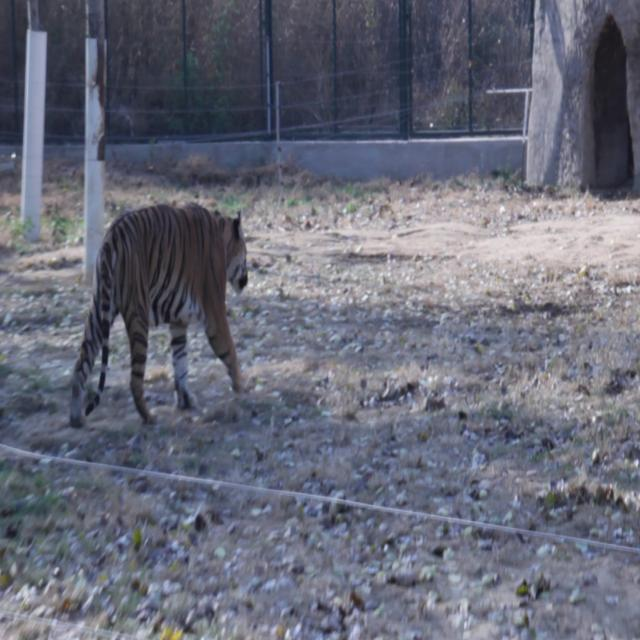Tiger: (63, 181, 274, 414)
